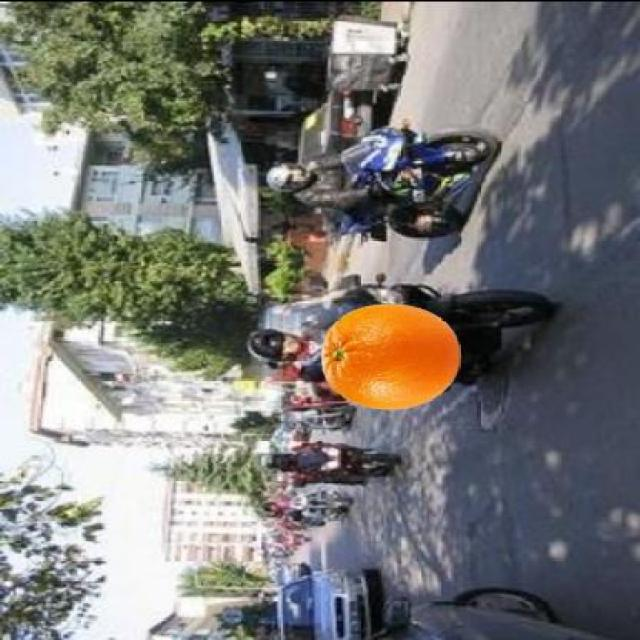Orange: (318, 302, 462, 411)
